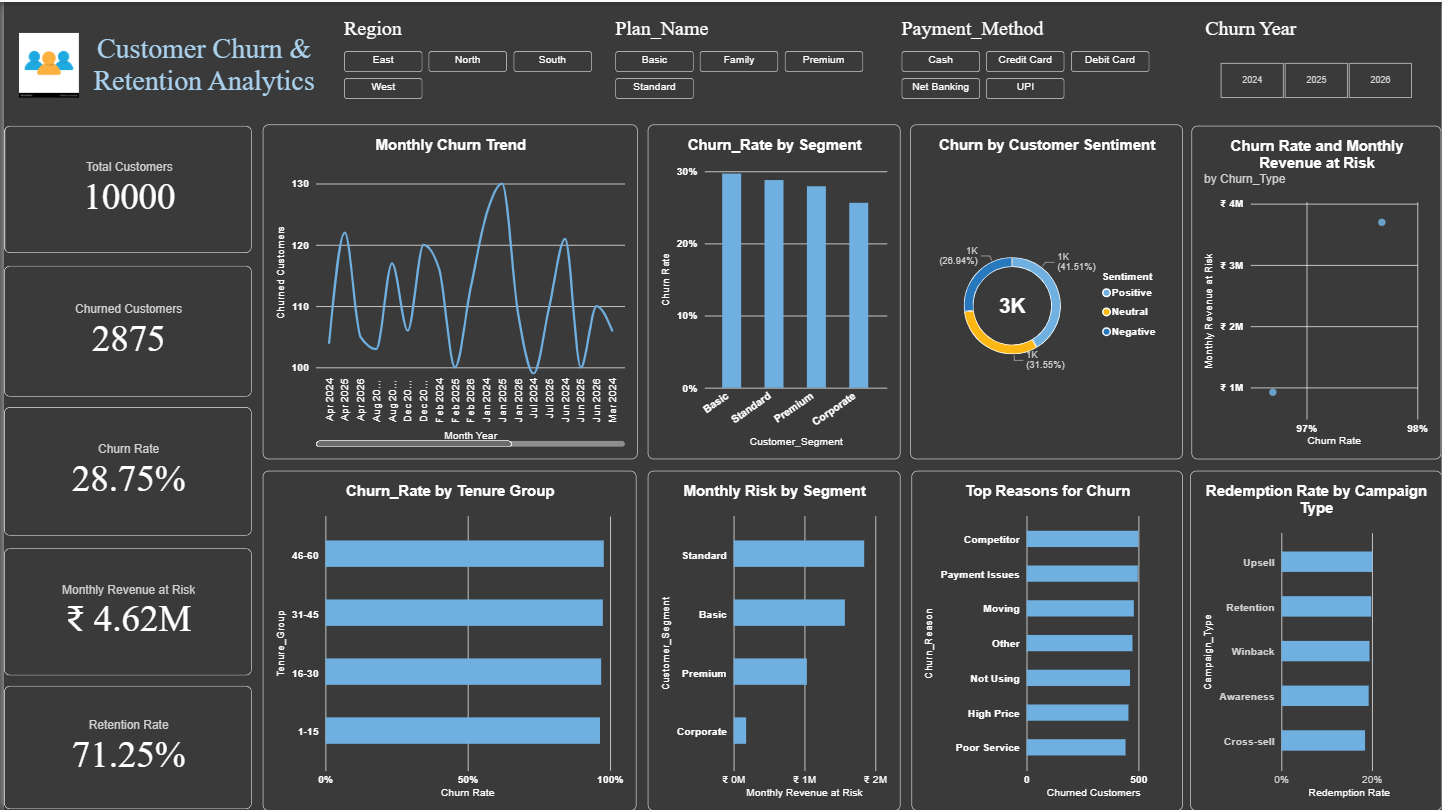

The dashboard page shown, as its layout file describes it:
{"tool":"powerbi","page":{"name":"Main Dashboard","canvas":[1920,1080],"ordinal":0},"visuals":[{"type":"textbox","box":[100,40,334,98],"z":0},{"type":"advancedSlicerVisual","fields":{"Values":["Subscriptions2.Payment_Method"]},"box":[1178.7,0,371.5,150],"z":1000},{"type":"cardVisual","fields":{"Data":["Table.Total_Customers"]},"box":[0,165.7,331.4,170.9],"z":2000},{"type":"cardVisual","fields":{"Data":["Table.Churned_Customers"]},"box":[0,351.8,331.8,175.9],"z":3000},{"type":"cardVisual","fields":{"Data":["Table.Retention Rate"]},"box":[0,913.9,331.8,165],"z":4000},{"type":"cardVisual","fields":{"Data":["Table.Revenue at Risk"]},"box":[0,729,331.8,170.5],"z":5000},{"type":"cardVisual","fields":{"Data":["Table.Churn_Rate"]},"box":[0,540.4,331.8,172.3],"z":6000},{"type":"lineChart","title":"Monthly Churn Trend","fields":{"Y":["Table.Churned_Customers"],"Category":["ChurnHistory.Month Year"]},"box":[345.6,163.6,500.9,447.5],"z":7000},{"type":"clusteredColumnChart","title":"Churn_Rate by Segment","fields":{"Category":["Customers1.Customer_Segment"],"Y":["Table.Churn_Rate"]},"box":[859.9,163.6,337.3,447.5],"z":8000},{"type":"barChart","title":"Churn_Rate by Tenure Group","fields":{"Category":["ChurnHistory.Tenure Group"],"Y":["Table.Churn Rate"]},"box":[345.6,626.2,499.3,454.2],"z":9000},{"type":"clusteredBarChart","title":"Monthly Risk by Segment","fields":{"Category":["Customers1.Customer_Segment"],"Y":["Table.Revenue at Risk"]},"box":[859.9,626.2,337.3,454.2],"z":10000},{"type":"clusteredBarChart","title":"Top Reasons for Churn","fields":{"Category":["ChurnHistory.Churn_Reason"],"Y":["Table.Churned_Customers"]},"box":[1212.3,626.2,362.3,454.2],"z":11000},{"type":"barChart","title":"Redemption Rate by Campaign Type","fields":{"Category":["MarketingCampaigns.Campaign_Type"],"Y":["Table.Redemption Rate"]},"box":[1584.6,626.2,335.6,454.2],"z":12000},{"type":"advancedSlicerVisual","fields":{"Values":["Customers1.Region"]},"box":[434,0,372,150],"z":13000},{"type":"advancedSlicerVisual","fields":{"Values":["Subscriptions2.Plan_Name"]},"box":[796.2,0,371.5,150],"z":14000},{"type":"slicer","title":"Churn Year","fields":{"Values":["ChurnHistory.Year"]},"box":[1585,0,335,150],"z":15000},{"type":"donutChart","title":"Churn by Customer Sentiment","fields":{"Category":["CustomerFeedback.Sentiment"],"Y":["Table.Churned_Customers"]},"box":[1210.6,163.6,364,447.5],"z":16000},{"type":"scatterChart","fields":{"X":["Table.Churn_Rate"],"Y":["Table.Revenue at Risk"],"Category":["ChurnHistory.Churn_Type"]},"box":[1586.3,165.3,334,445.8],"z":17000},{"type":"image","box":[20,32,80,106],"z":23000}]}

Visuals, with their boxes in screenshot pixels (x1, y1, x2, y2), scaled from the page's 1920x1080 canvas onto the 1442x810 screenshot:
textbox: (75,30,326,104)
advancedSlicerVisual - Subscriptions2.Payment_Method: (885,0,1164,112)
cardVisual - Table.Total_Customers: (0,124,249,252)
cardVisual - Table.Churned_Customers: (0,264,249,396)
cardVisual - Table.Retention Rate: (0,685,249,809)
cardVisual - Table.Revenue at Risk: (0,547,249,675)
cardVisual - Table.Churn_Rate: (0,405,249,535)
"Monthly Churn Trend" lineChart: (260,123,636,458)
"Churn_Rate by Segment" clusteredColumnChart: (646,123,899,458)
"Churn_Rate by Tenure Group" barChart: (260,470,635,809)
"Monthly Risk by Segment" clusteredBarChart: (646,470,899,809)
"Top Reasons for Churn" clusteredBarChart: (910,470,1183,809)
"Redemption Rate by Campaign Type" barChart: (1190,470,1441,809)
advancedSlicerVisual - Customers1.Region: (326,0,605,112)
advancedSlicerVisual - Subscriptions2.Plan_Name: (598,0,877,112)
"Churn Year" slicer: (1190,0,1441,112)
"Churn by Customer Sentiment" donutChart: (909,123,1183,458)
scatterChart - Table.Churn_Rate x Table.Revenue at Risk: (1191,124,1441,458)
image: (15,24,75,104)
